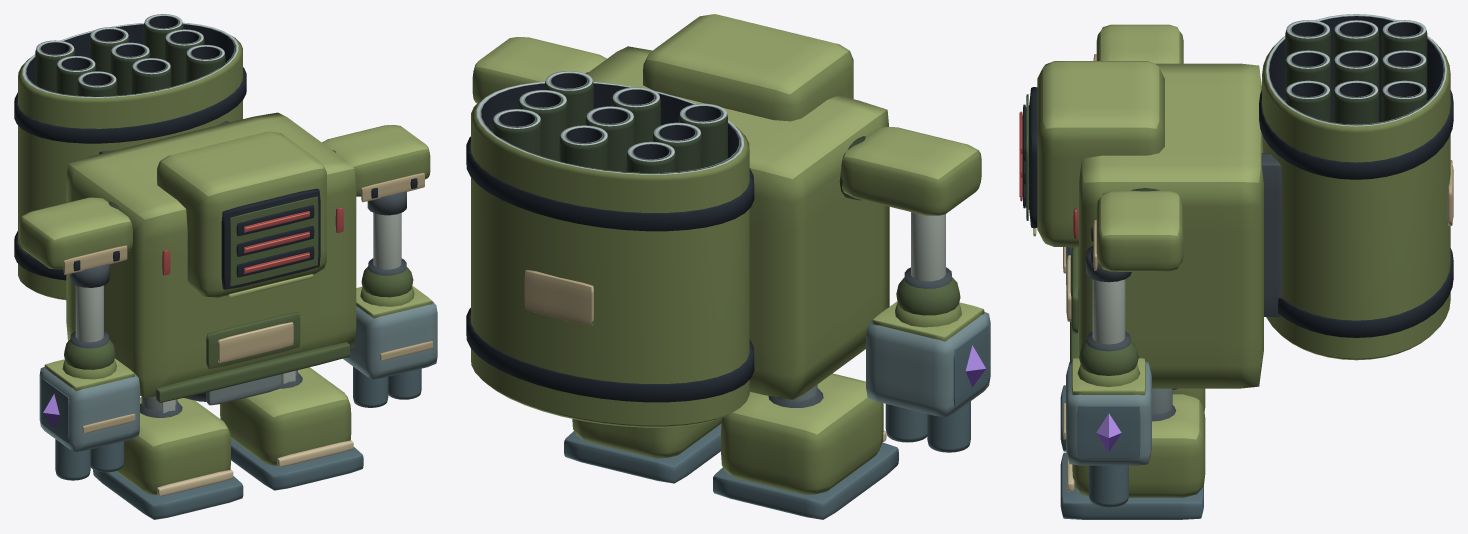
The model's file is military-robot.obj.
3 renders of one model, left to right at view 1: azimuth 30°, elevation 25°; view 2: azimuth 150°, elevation 25°; view 3: azimuth 270°, elevation 25°, orthographic. The views are drawn at different scales.
Visible parts, largest first — view 1: Torso_Rectangular_Armor, Back_Canister_Shell, Head_Armor, Boot_Armor_R, Boot_Armor_L, Shoulder_Armor_L, Hand_Launcher_Casing_R, Hand_Launcher_Casing_L, Shoulder_Armor_R, Back_Canister_Upper_Belt, Torso_Lower_Armor_Band, Boot_Sole_L (+38 smaller); view 2: Back_Canister_Shell, Torso_Rectangular_Armor, Head_Armor, Boot_Armor_L, Shoulder_Armor_L, Hand_Launcher_Casing_L, Back_Canister_Lower_Belt, Back_Canister_Upper_Belt, Boot_Sole_L, Shoulder_Armor_R, Boot_Sole_R, Boot_Armor_R (+17 smaller); view 3: Torso_Rectangular_Armor, Back_Canister_Shell, Head_Armor, Shoulder_Armor_R, Boot_Armor_R, Back_Canister_Upper_Belt, Boot_Sole_R, Back_Canister_Lower_Belt, Shoulder_Armor_L, Hand_Launcher_Casing_R, Back_Mount_Pad_R, Hand_Dorsal_Plate_R (+19 smaller).
Boxes of the visible parts, x1=… form: Torso_Rectangular_Armor: x1=66, y1=112, x2=356, y2=397; Back_Canister_Shell: x1=18, y1=22, x2=242, y2=300; Head_Armor: x1=157, y1=131, x2=326, y2=298; Boot_Armor_R: x1=220, y1=367, x2=351, y2=465; Boot_Armor_L: x1=116, y1=397, x2=230, y2=494; Shoulder_Armor_L: x1=19, y1=197, x2=132, y2=269; Hand_Launcher_Casing_R: x1=343, y1=301, x2=437, y2=378; Hand_Launcher_Casing_L: x1=39, y1=367, x2=139, y2=451; Shoulder_Armor_R: x1=322, y1=125, x2=430, y2=196; Back_Canister_Upper_Belt: x1=14, y1=67, x2=246, y2=143; Torso_Lower_Armor_Band: x1=156, y1=342, x2=349, y2=402; Boot_Sole_L: x1=93, y1=469, x2=243, y2=519; Back_Canister_Shell: x1=471, y1=81, x2=749, y2=427; Torso_Rectangular_Armor: x1=587, y1=46, x2=889, y2=399; Head_Armor: x1=643, y1=14, x2=853, y2=121; Boot_Armor_L: x1=721, y1=373, x2=883, y2=494; Shoulder_Armor_L: x1=841, y1=127, x2=981, y2=215; Hand_Launcher_Casing_L: x1=866, y1=312, x2=990, y2=416; Back_Canister_Lower_Belt: x1=466, y1=308, x2=754, y2=402; Back_Canister_Upper_Belt: x1=466, y1=136, x2=754, y2=231; Boot_Sole_L: x1=713, y1=442, x2=898, y2=519; Shoulder_Armor_R: x1=472, y1=37, x2=606, y2=103; Boot_Sole_R: x1=564, y1=424, x2=721, y2=483; Boot_Armor_R: x1=572, y1=418, x2=721, y2=458; Torso_Rectangular_Armor: x1=1079, y1=63, x2=1263, y2=388; Back_Canister_Shell: x1=1262, y1=14, x2=1450, y2=360; Head_Armor: x1=1037, y1=61, x2=1164, y2=247; Shoulder_Armor_R: x1=1096, y1=190, x2=1183, y2=271; Boot_Armor_R: x1=1072, y1=394, x2=1205, y2=497; Back_Canister_Upper_Belt: x1=1259, y1=90, x2=1453, y2=179; Boot_Sole_R: x1=1060, y1=452, x2=1203, y2=519; Back_Canister_Lower_Belt: x1=1278, y1=248, x2=1453, y2=337; Shoulder_Armor_L: x1=1096, y1=24, x2=1183, y2=63; Hand_Launcher_Casing_R: x1=1066, y1=361, x2=1151, y2=465; Back_Mount_Pad_R: x1=1261, y1=153, x2=1282, y2=316; Hand_Dorsal_Plate_R: x1=1077, y1=405, x2=1140, y2=458.
Bounding box in the file's own units: 3.97 × 3.42 × 3.34.
